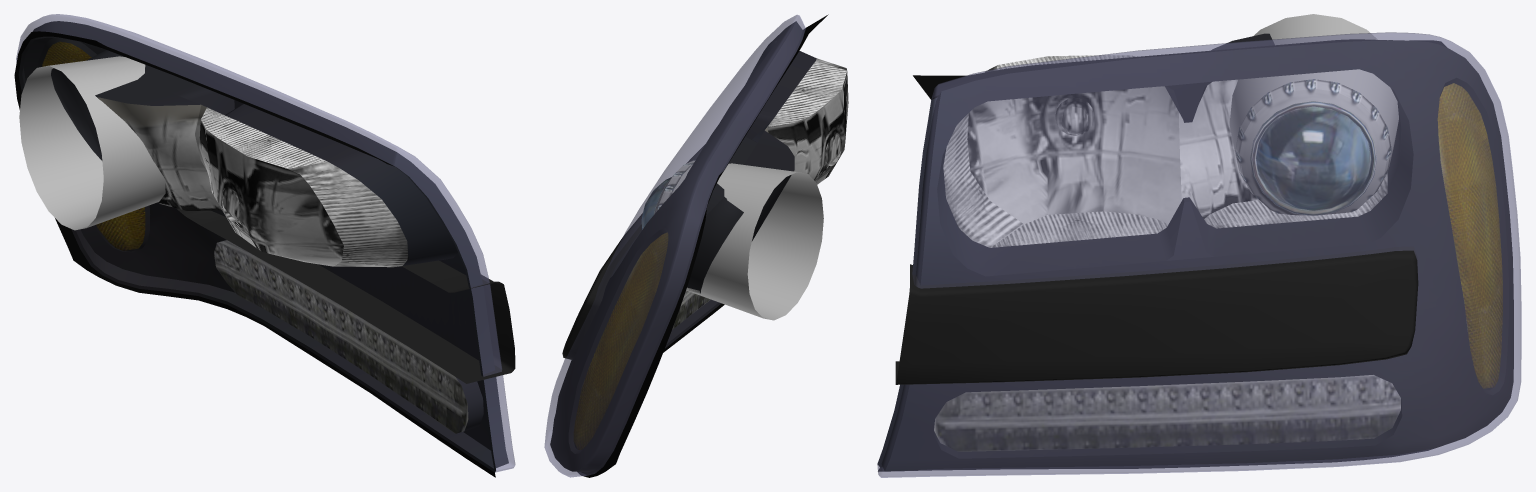
3 renders of one model, left to right at view 1: azimuth 30°, elevation 25°; view 2: azimuth 150°, elevation 25°; view 3: azimuth 270°, elevation 25°, orthographic. The views are drawn at different scales.
Visible parts, largest first — view 1: U843_9A_061B_L_1_N_U843_9A_061B_L, U843_9A_061B_L_U843_9A_061B_L_3_DTaSI, U843_9A_061B_L_U843_9A_061B_L_2_D, U843_9A_061B_L_U843_9A_061B_L_4_D; view 2: U843_9A_061B_L_1_N_U843_9A_061B_L, U843_9A_061B_L_U843_9A_061B_L_3_DTaSI, U843_9A_061B_L_U843_9A_061B_L_4_D, U843_9A_061B_L_U843_9A_061B_L_2_D; view 3: U843_9A_061B_L_U843_9A_061B_L_3_DTaSI, U843_9A_061B_L_1_N_U843_9A_061B_L, U843_9A_061B_L_U843_9A_061B_L_2_D, U843_9A_061B_L_U843_9A_061B_L_4_D.
Boxes of the visible parts, x1,y1,x2,y2 form: U843_9A_061B_L_1_N_U843_9A_061B_L: (18,21,508,472); U843_9A_061B_L_U843_9A_061B_L_3_DTaSI: (16,14,515,472); U843_9A_061B_L_U843_9A_061B_L_2_D: (176,208,515,383); U843_9A_061B_L_U843_9A_061B_L_4_D: (14,31,495,477); U843_9A_061B_L_1_N_U843_9A_061B_L: (550,21,848,475); U843_9A_061B_L_U843_9A_061B_L_3_DTaSI: (544,15,805,477); U843_9A_061B_L_U843_9A_061B_L_4_D: (578,14,828,477); U843_9A_061B_L_U843_9A_061B_L_2_D: (562,145,704,359); U843_9A_061B_L_U843_9A_061B_L_3_DTaSI: (877,32,1521,477); U843_9A_061B_L_1_N_U843_9A_061B_L: (877,14,1513,471); U843_9A_061B_L_U843_9A_061B_L_2_D: (895,246,1418,384); U843_9A_061B_L_U843_9A_061B_L_4_D: (878,39,1446,471).
Size of the model in its own units: 20.47 by 25.22 by 40.9.
